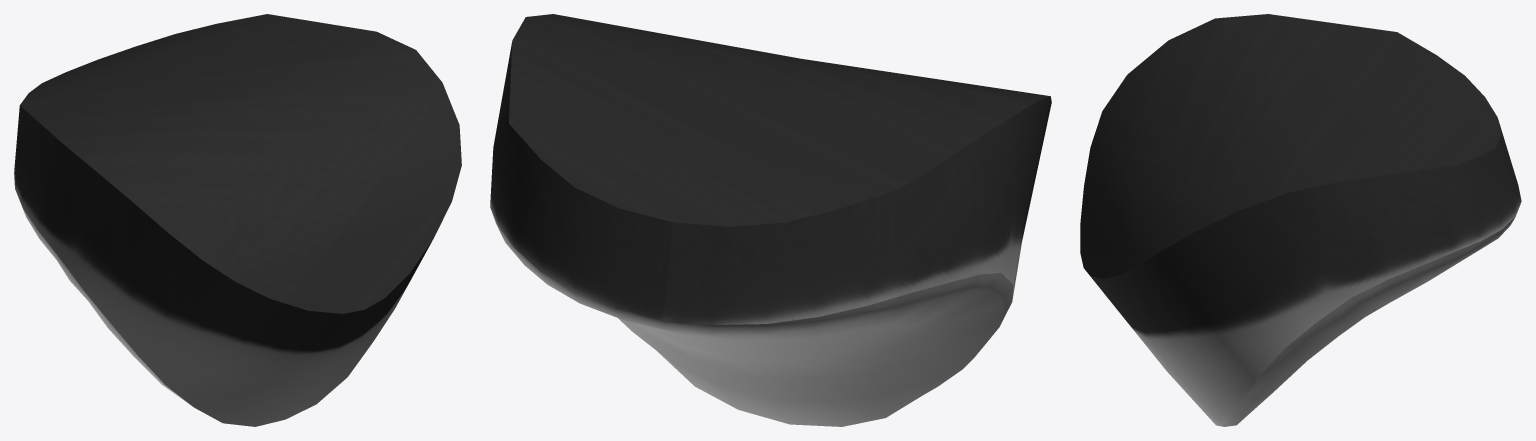
File: oculus_quest2_controller_right_trigger.obj
3 views of the same model, side by side, from view 1: azimuth 30°, elevation 25°; view 2: azimuth 150°, elevation 25°; view 3: azimuth 270°, elevation 25° (orthographic). The views are drawn at different scales.
Visible parts, largest first — view 1: oculus_quest2_controller_right_trigger; view 2: oculus_quest2_controller_right_trigger; view 3: oculus_quest2_controller_right_trigger.
Boxes of the visible parts, x1,y1,x2,y2 form: oculus_quest2_controller_right_trigger: (14,14,461,426); oculus_quest2_controller_right_trigger: (490,14,1051,426); oculus_quest2_controller_right_trigger: (1080,14,1521,426).
Bounding box in the file's own units: 0.0264 × 0.0208 × 0.0269.
1 material, 1 textured.
